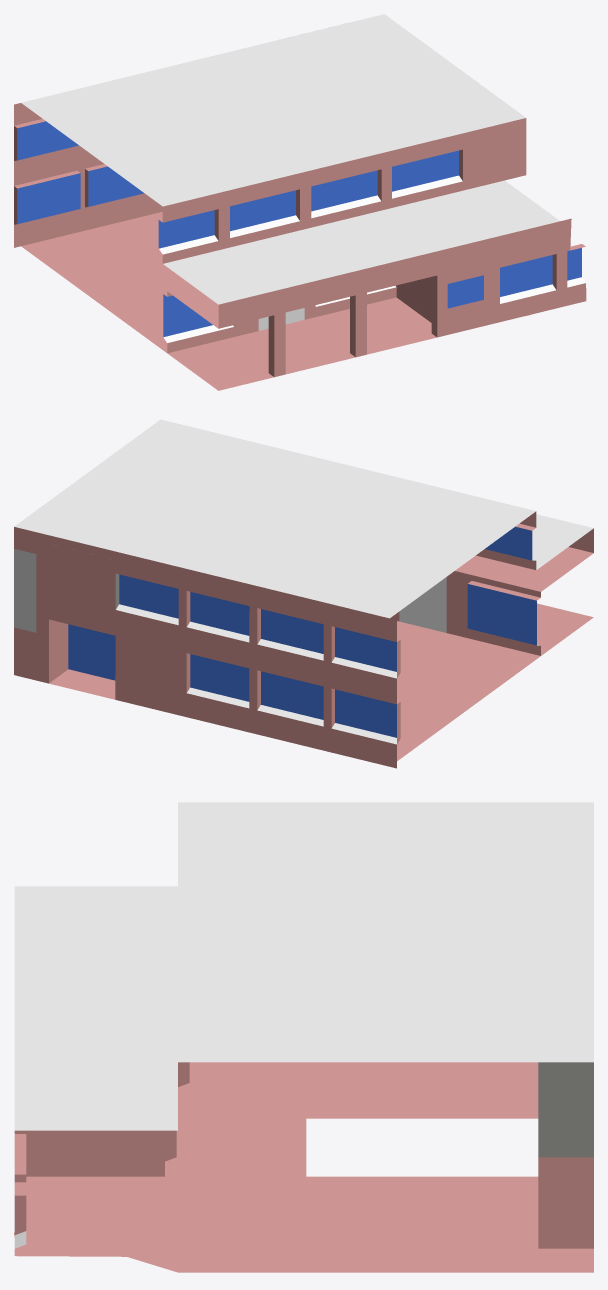
File: seisangizyutu.glb
3 renders of one model, top to bottom at view 1: azimuth 30°, elevation 25°; view 2: azimuth 150°, elevation 25°; view 3: azimuth 270°, elevation 25°, orthographic. The views are drawn at different scales.
Parts seen in each view (by area): view 1: 真ん中; view 2: 真ん中; view 3: 真ん中.
Part boxes in pixels (x1,y1,x2,y2): 真ん中: [14, 14, 586, 390]; 真ん中: [14, 419, 593, 768]; 真ん中: [14, 802, 593, 1272].
Bounding box in the file's own units: 7.66 × 2.75 × 6.86.
1 material, 1 textured.
